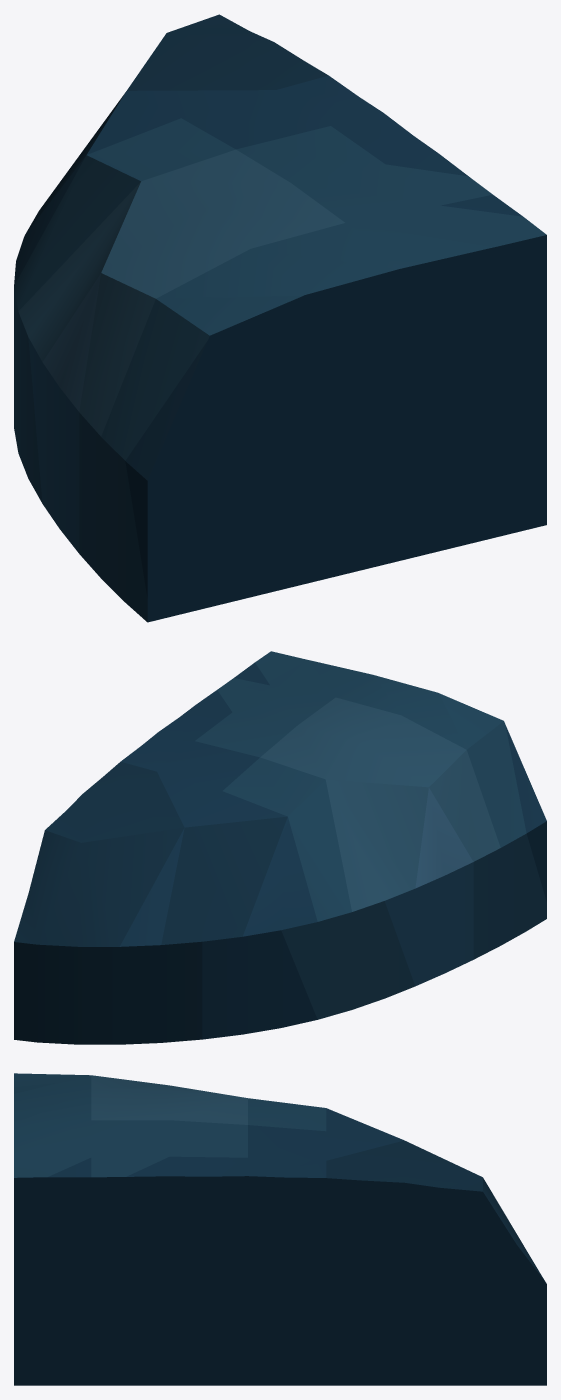
Rendered from gryphon_13.glb.
The picture shows the model from 3 angles, top to bottom: view 1: azimuth 30°, elevation 25°; view 2: azimuth 150°, elevation 25°; view 3: azimuth 270°, elevation 25°; orthographic projection. The views are drawn at different scales.
Parts seen in each view (by area): view 1: gryphon_13_gbody; view 2: gryphon_13_gbody; view 3: gryphon_13_gbody.
Part boxes in pixels (<box>): gryphon_13_gbody: <box>14,14,546,622</box>; gryphon_13_gbody: <box>14,651,546,1044</box>; gryphon_13_gbody: <box>14,1073,546,1385</box>.
Size of the model in its own units: 2.95 by 2.11 by 4.76.
